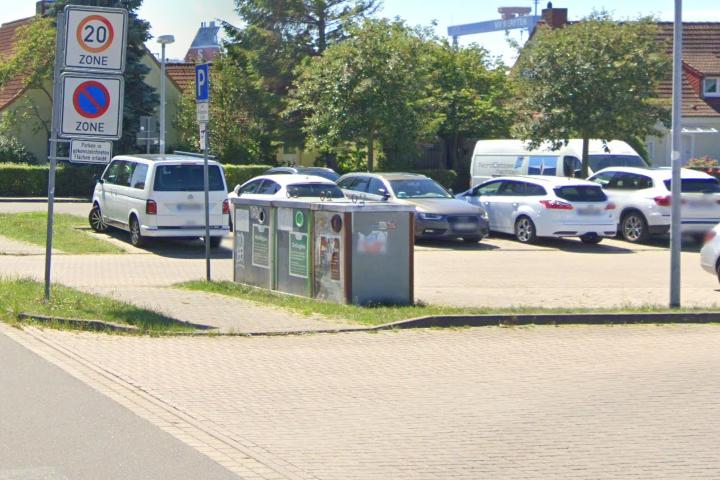traffic_sign: (75, 12, 117, 55), (72, 77, 110, 118), (195, 63, 208, 103)
vehicle: (85, 150, 233, 253), (552, 161, 720, 248), (331, 169, 493, 248), (447, 172, 621, 244)
